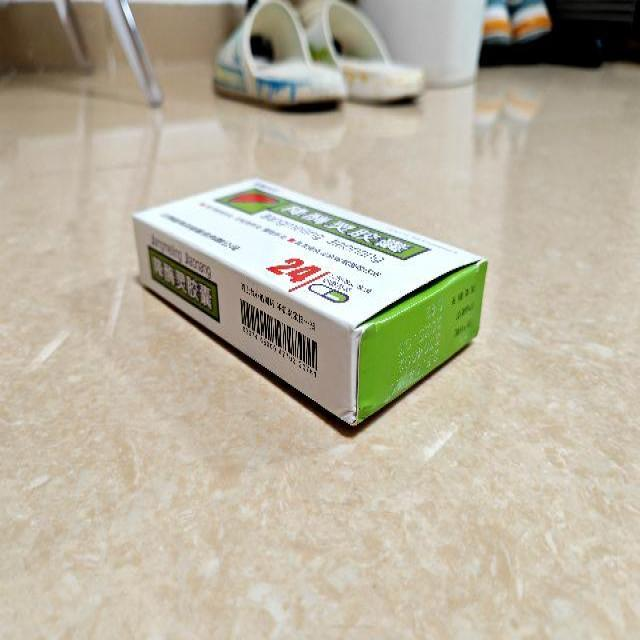box: (130, 176, 488, 432)
